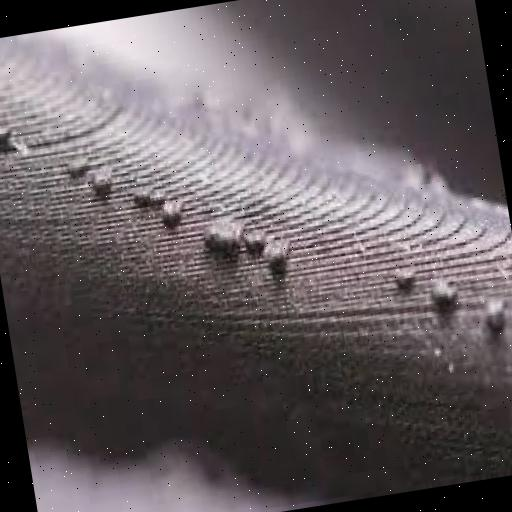blobs: (54, 146, 307, 290), (377, 249, 512, 346), (0, 111, 35, 172)
